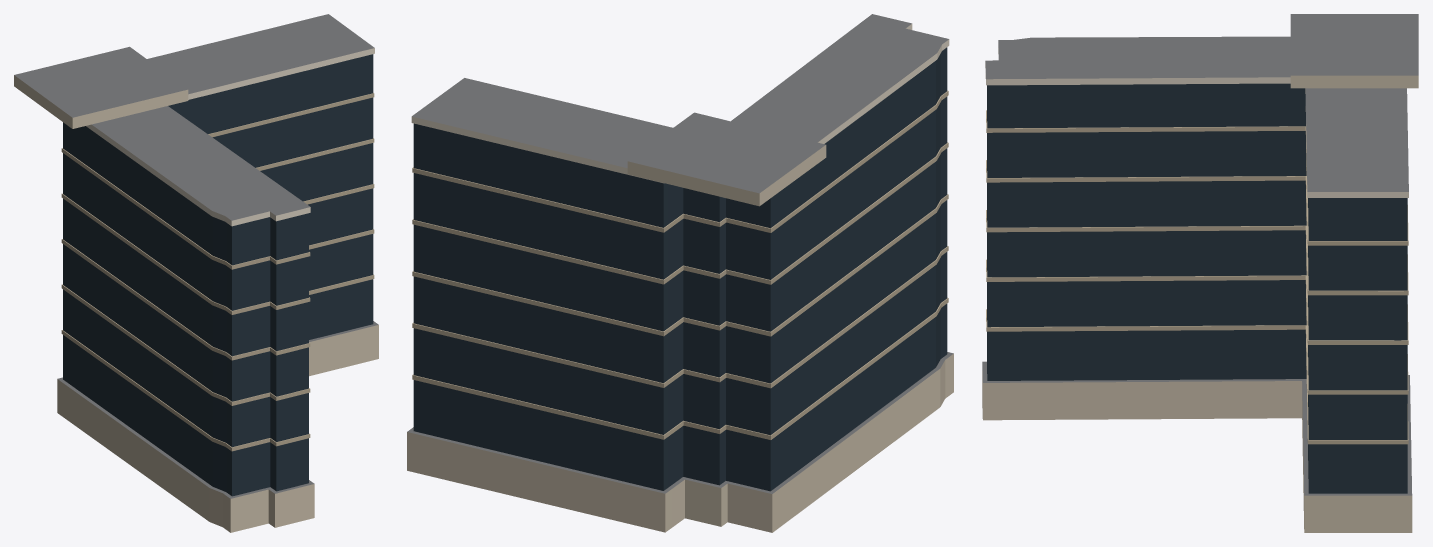
File: bldg_w115766957.glb
3 views of the same model, side by side, from view 1: azimuth 30°, elevation 25°; view 2: azimuth 150°, elevation 25°; view 3: azimuth 270°, elevation 25° (orthographic). The views are drawn at different scales.
Parts seen in each view (by area): view 1: Bldg_w115766957; view 2: Bldg_w115766957; view 3: Bldg_w115766957.
Part boxes in pixels (left/top/right/bottom): Bldg_w115766957: left=14, top=14, right=378, bottom=532; Bldg_w115766957: left=407, top=14, right=953, bottom=532; Bldg_w115766957: left=982, top=14, right=1418, bottom=532.
Bounding box in the file's own units: 86.38 × 85 × 95.51.
